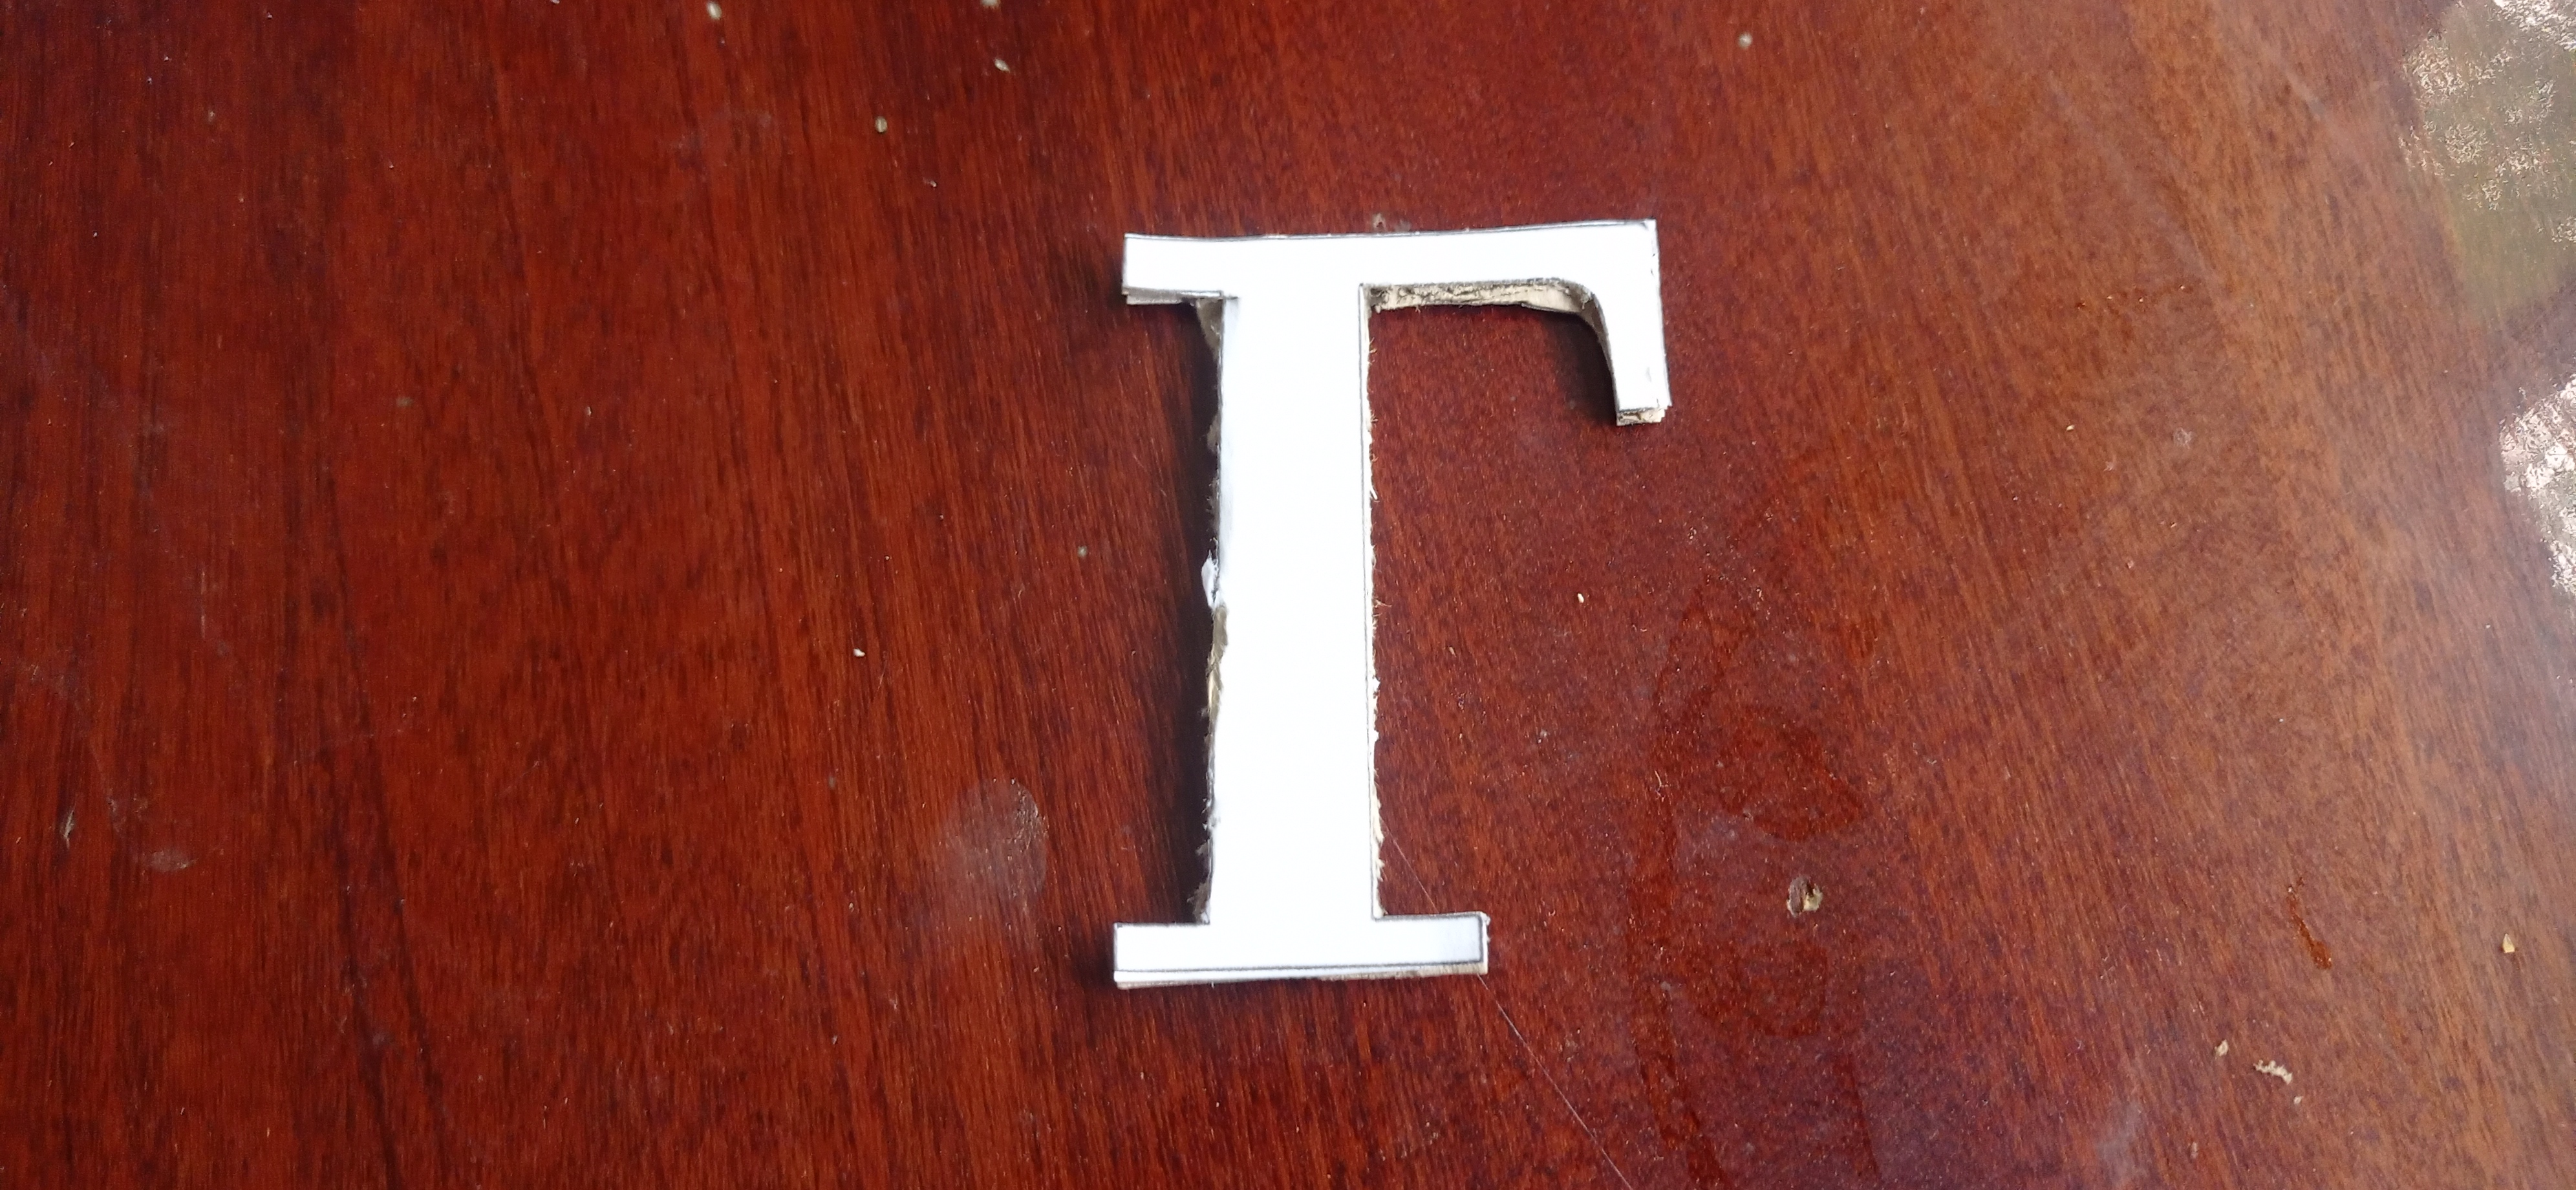g: (1101, 219, 1677, 989)
